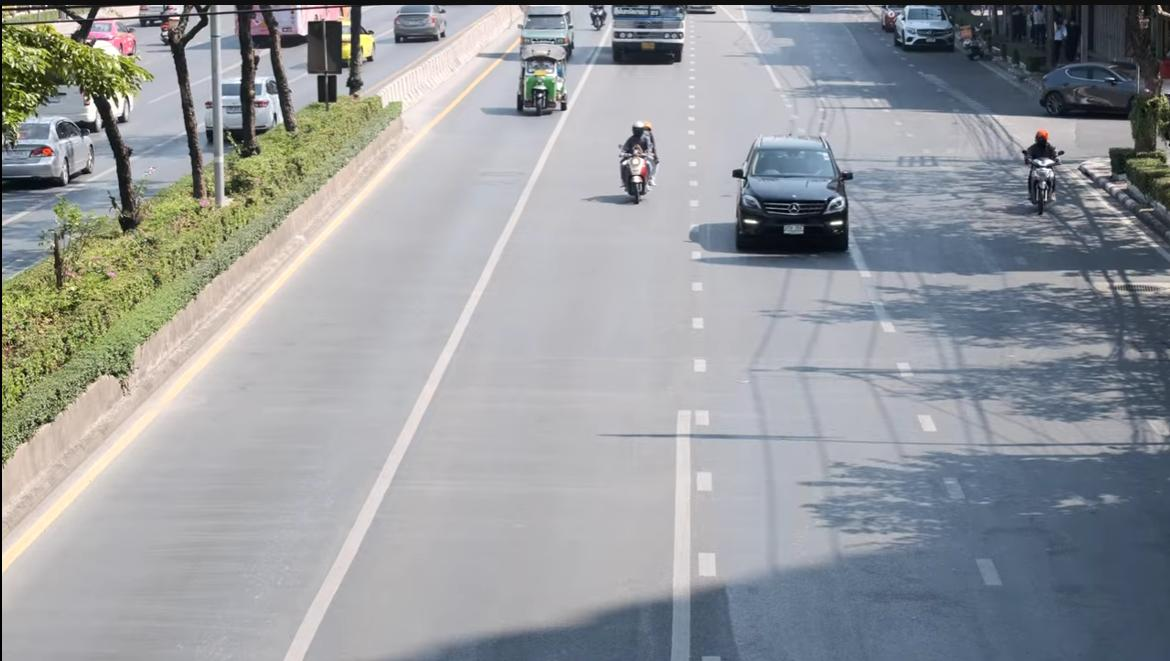motorcycle: (991, 119, 1097, 275), (607, 113, 694, 249)
tricycle: (504, 32, 599, 154)
